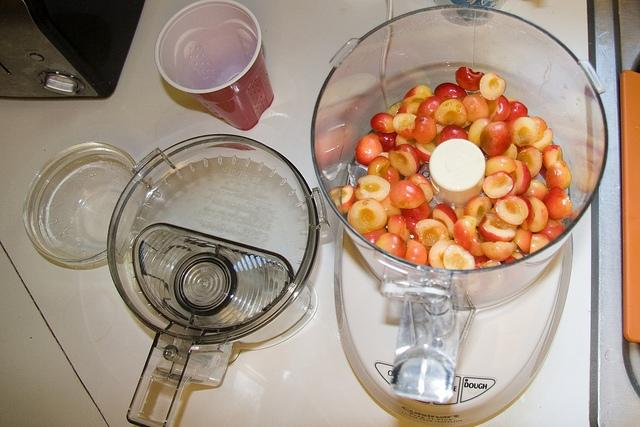cherry: (347, 197, 387, 234), (478, 213, 518, 243), (480, 121, 513, 156), (494, 194, 528, 226), (389, 180, 426, 209), (413, 218, 450, 247), (542, 186, 572, 220), (388, 144, 419, 176), (355, 132, 383, 166), (356, 174, 390, 202), (432, 204, 458, 240), (434, 98, 467, 126), (516, 146, 544, 179), (482, 170, 515, 198), (428, 239, 457, 269), (509, 116, 538, 146), (524, 196, 548, 232), (442, 245, 476, 270), (464, 196, 492, 226), (453, 216, 477, 251), (406, 174, 434, 204), (534, 216, 566, 242), (546, 160, 572, 190), (510, 159, 531, 196), (375, 233, 406, 258), (462, 94, 489, 122), (479, 72, 506, 100), (455, 67, 485, 92), (468, 118, 493, 148), (484, 154, 518, 176), (479, 241, 514, 262), (436, 125, 469, 147), (416, 96, 446, 120), (392, 112, 417, 140), (412, 115, 436, 144), (486, 94, 511, 121), (520, 180, 549, 203), (388, 214, 410, 244), (380, 196, 402, 226), (400, 201, 432, 221), (402, 85, 432, 105), (406, 239, 428, 266), (487, 142, 518, 160), (366, 156, 391, 178), (528, 117, 548, 144), (542, 145, 563, 170), (370, 112, 395, 133), (513, 227, 532, 254), (434, 83, 468, 98), (505, 101, 528, 122), (532, 128, 553, 151), (374, 132, 398, 152), (415, 142, 437, 162), (530, 233, 550, 254), (397, 102, 421, 117), (342, 185, 354, 214), (470, 232, 484, 256), (403, 216, 418, 236), (386, 106, 400, 118)
